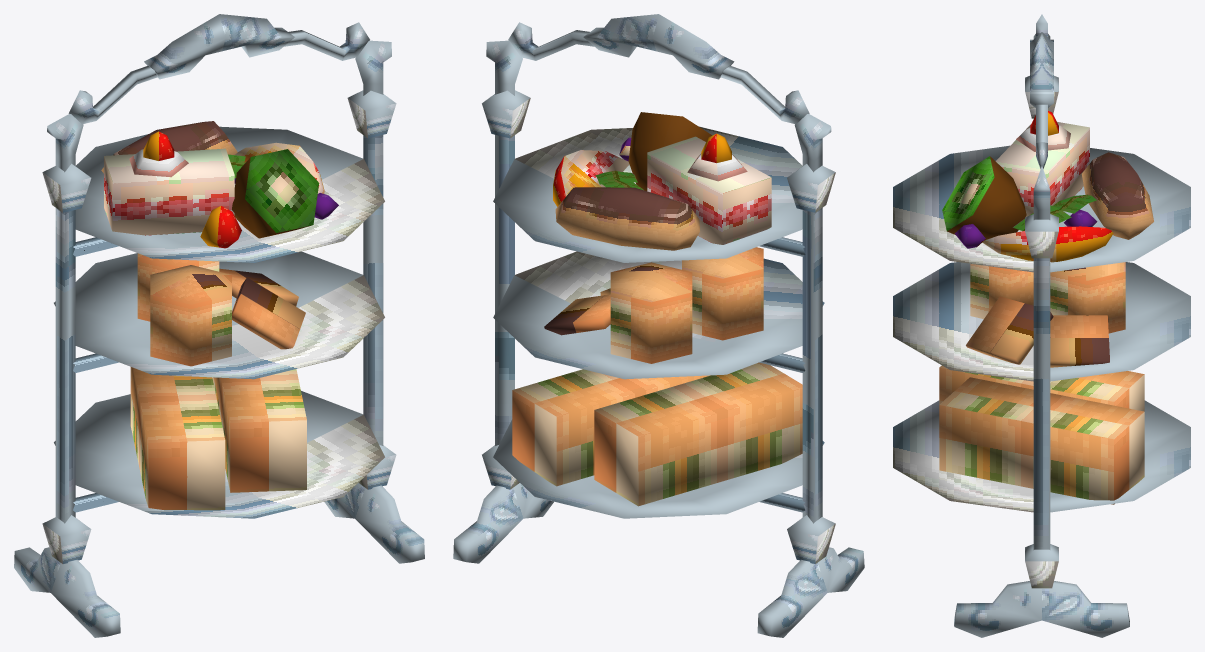
File: int_oth_afternoon.dae
3 renders of one model, left to right at view 1: azimuth 30°, elevation 25°; view 2: azimuth 150°, elevation 25°; view 3: azimuth 270°, elevation 25°, orthographic. The views are drawn at different scales.
Visible parts, largest first — view 1: int_oth_afternoon; view 2: int_oth_afternoon; view 3: int_oth_afternoon.
Boxes of the visible parts, x1,y1,x2,y2 form: int_oth_afternoon: [14, 14, 424, 637]; int_oth_afternoon: [453, 14, 864, 637]; int_oth_afternoon: [893, 14, 1190, 637].
Bounding box in the file's own units: 23.26 × 36.28 × 18.55.
3 materials, 3 textured.
